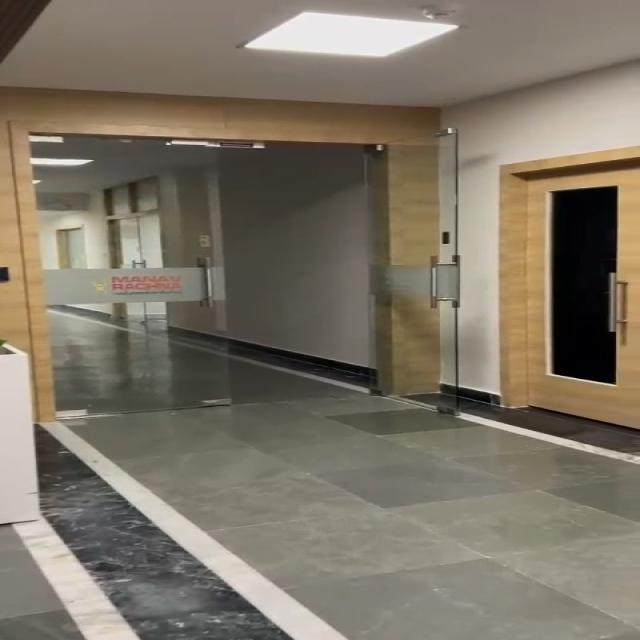door: (0, 61, 483, 396), (496, 172, 640, 404)
floor: (38, 396, 640, 640)
